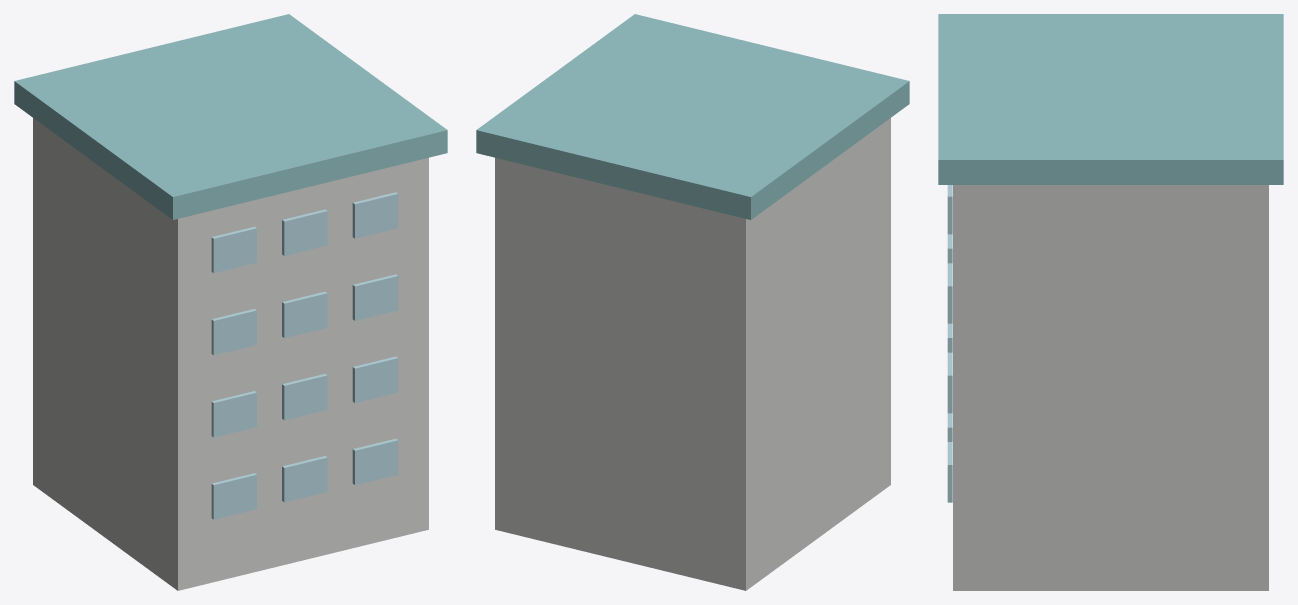
Rendered from resort_tower.glb.
3 renders of one model, left to right at view 1: azimuth 30°, elevation 25°; view 2: azimuth 150°, elevation 25°; view 3: azimuth 270°, elevation 25°, orthographic. The views are drawn at different scales.
Visible parts, largest first — view 1: part_00, part_01, part_10, part_11, part_12, part_13, part_02, part_03, part_09, part_04, part_06, part_08 (+2 smaller); view 2: part_00, part_01; view 3: part_00, part_01.
Boxes of the visible parts, x1,y1,x2,y2 form: part_00: (33, 118, 428, 590); part_01: (14, 14, 447, 219); part_10: (352, 438, 398, 485); part_11: (352, 356, 398, 402); part_12: (352, 274, 398, 320); part_13: (352, 192, 398, 238); part_02: (211, 473, 256, 519); part_03: (211, 391, 256, 437); part_09: (282, 209, 327, 255); part_04: (211, 309, 256, 355); part_06: (282, 456, 327, 502); part_08: (282, 291, 327, 337); part_00: (495, 118, 890, 590); part_01: (476, 14, 909, 219); part_00: (953, 185, 1268, 590); part_01: (938, 14, 1283, 184).
Size of the model in its own units: 3.5 by 4.89 by 3.5.
